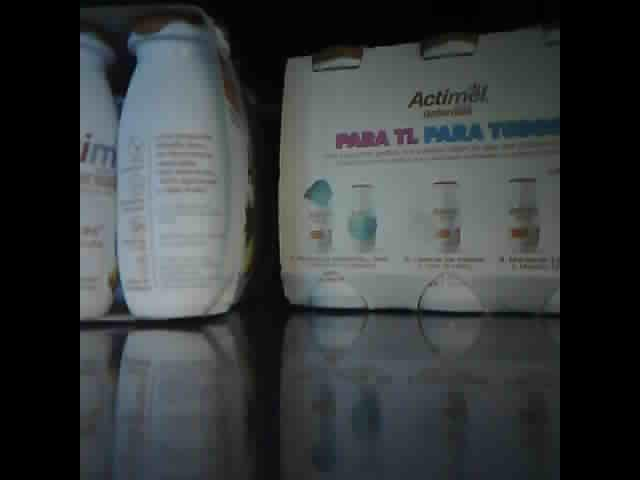actimel: (276, 17, 561, 318), (81, 2, 263, 327)
